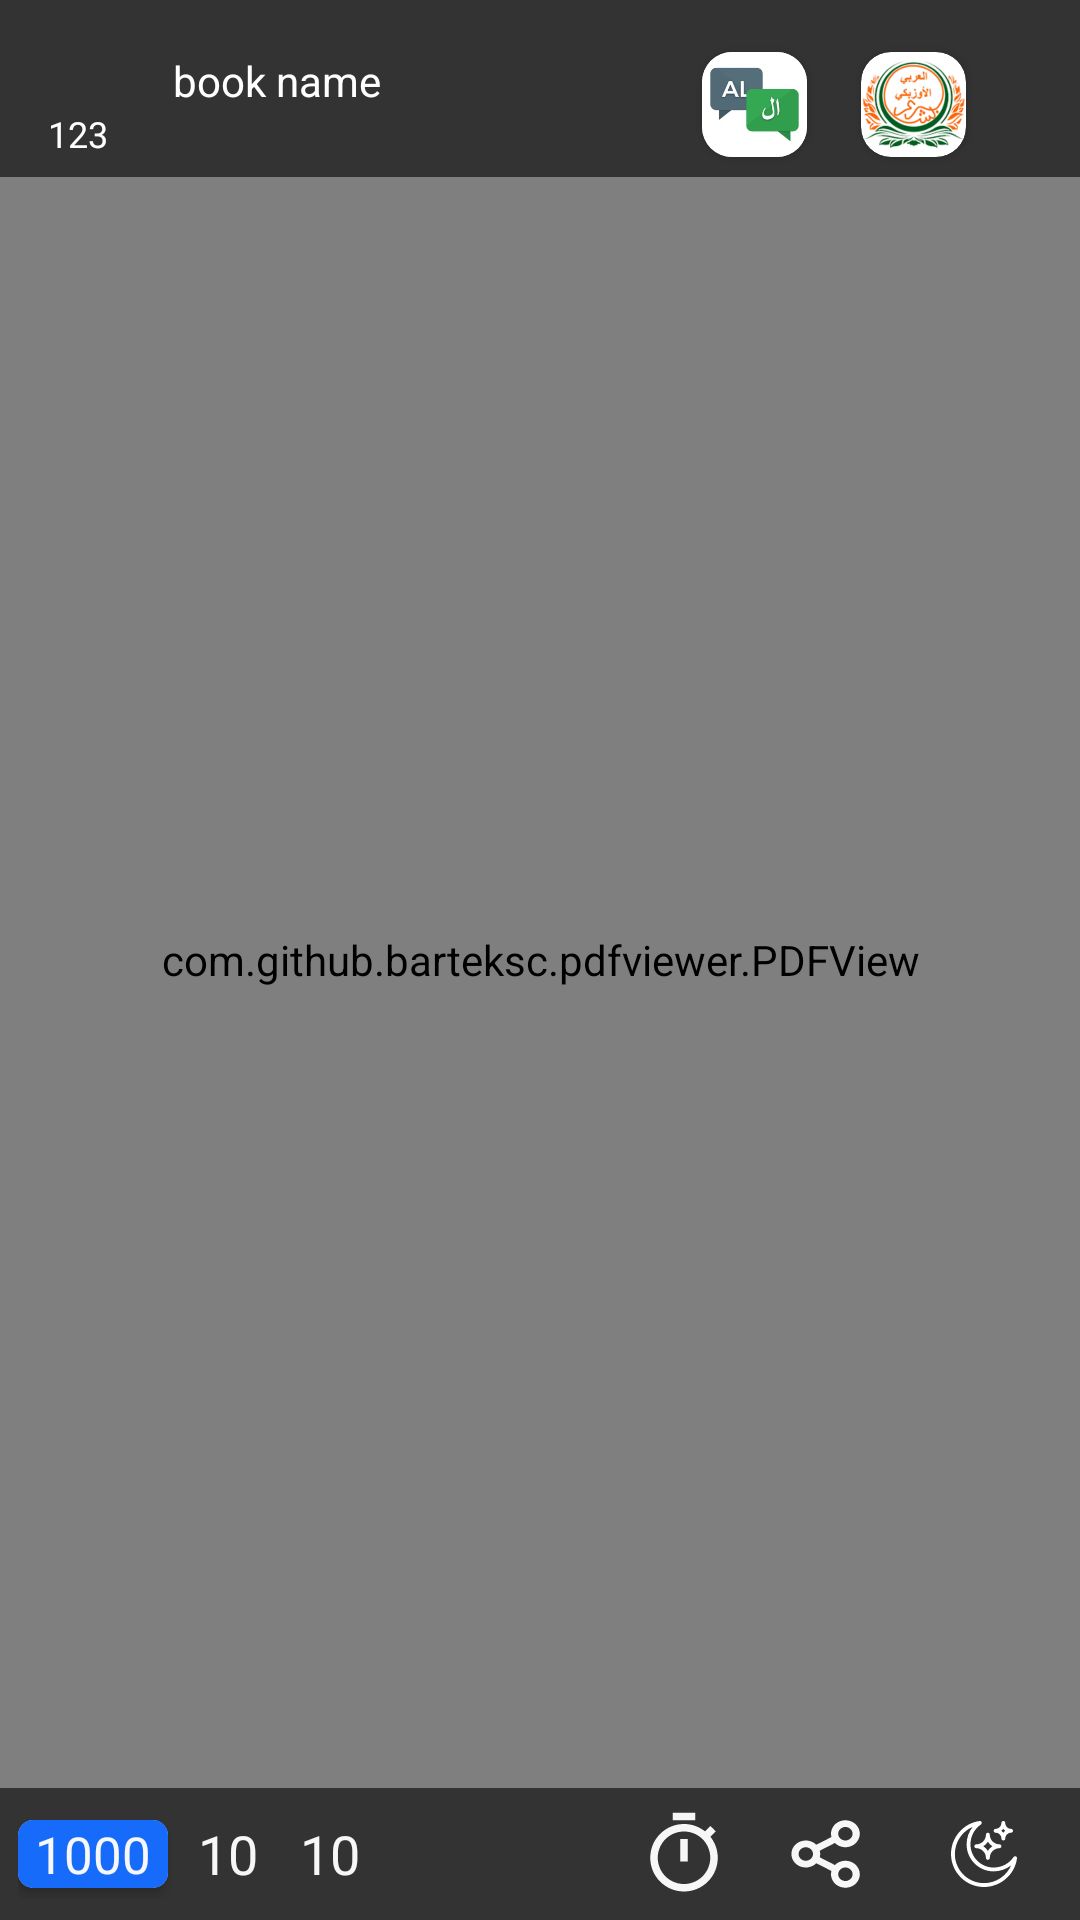

Named icons in this screenshot (1080×1920) and their centers, (x,y):
moon: (984,1854)
share: (825,1854)
timer: (684,1852)
